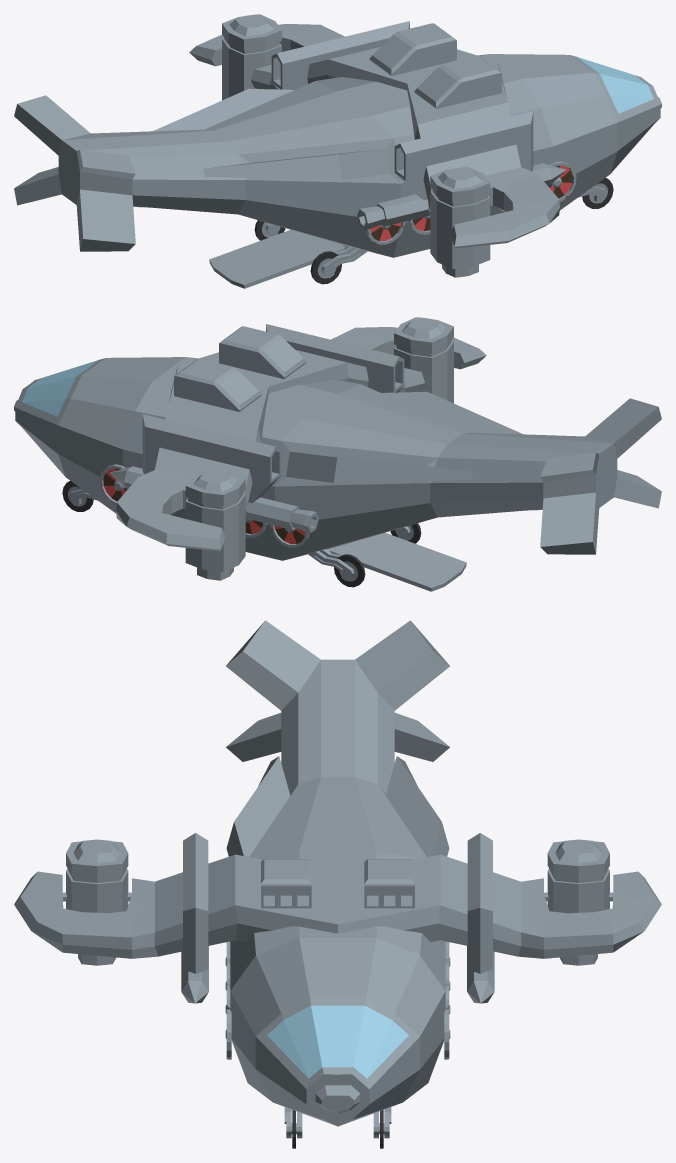
The model's file is Dropship.fbx.
3 renders of one model, top to bottom at view 1: azimuth 30°, elevation 25°; view 2: azimuth 150°, elevation 25°; view 3: azimuth 270°, elevation 25°, orthographic. The views are drawn at different scales.
Parts seen in each view (by area): view 1: Ship_Prop; view 2: Ship_Prop; view 3: Ship_Prop.
Part boxes in pixels (left/top/right/bottom): Ship_Prop: left=14, top=14, right=661, bottom=288; Ship_Prop: left=14, top=317, right=661, bottom=591; Ship_Prop: left=14, top=620, right=661, bottom=1148.
Size of the model in its own units: 31.84 by 9.89 by 25.51.
